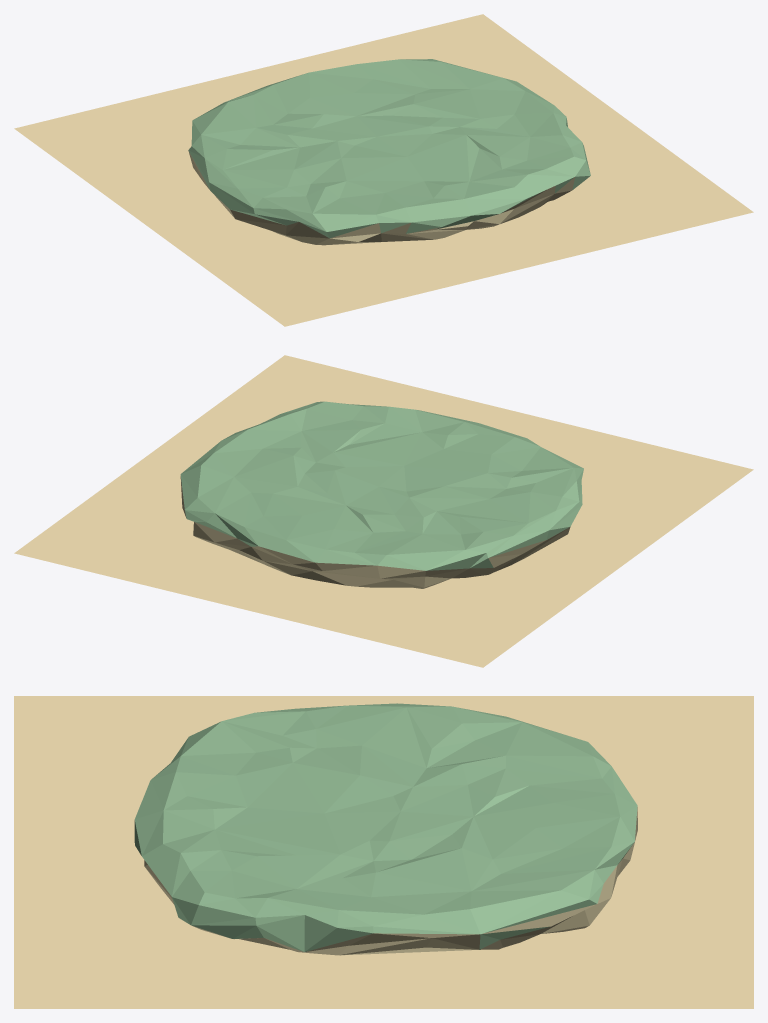
3 renders of one model, top to bottom at view 1: azimuth 30°, elevation 25°; view 2: azimuth 150°, elevation 25°; view 3: azimuth 270°, elevation 25°, orthographic. The views are drawn at different scales.
Parts seen in each view (by area): view 1: sand, island; view 2: sand, island; view 3: sand, island.
Boxes of the visible parts, x1,y1,x2,y2 form: sand: (14,14,753,326); island: (188,59,590,245); sand: (14,355,753,667); island: (180,401,583,588); sand: (14,696,753,1008); island: (134,703,637,955).
Bounding box in the file's own units: 40 × 3.12 × 40.
